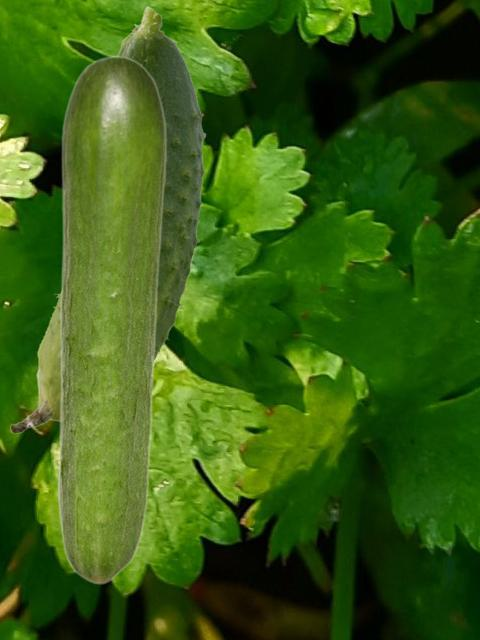cucumber: (10, 6, 206, 432), (57, 55, 166, 584)
